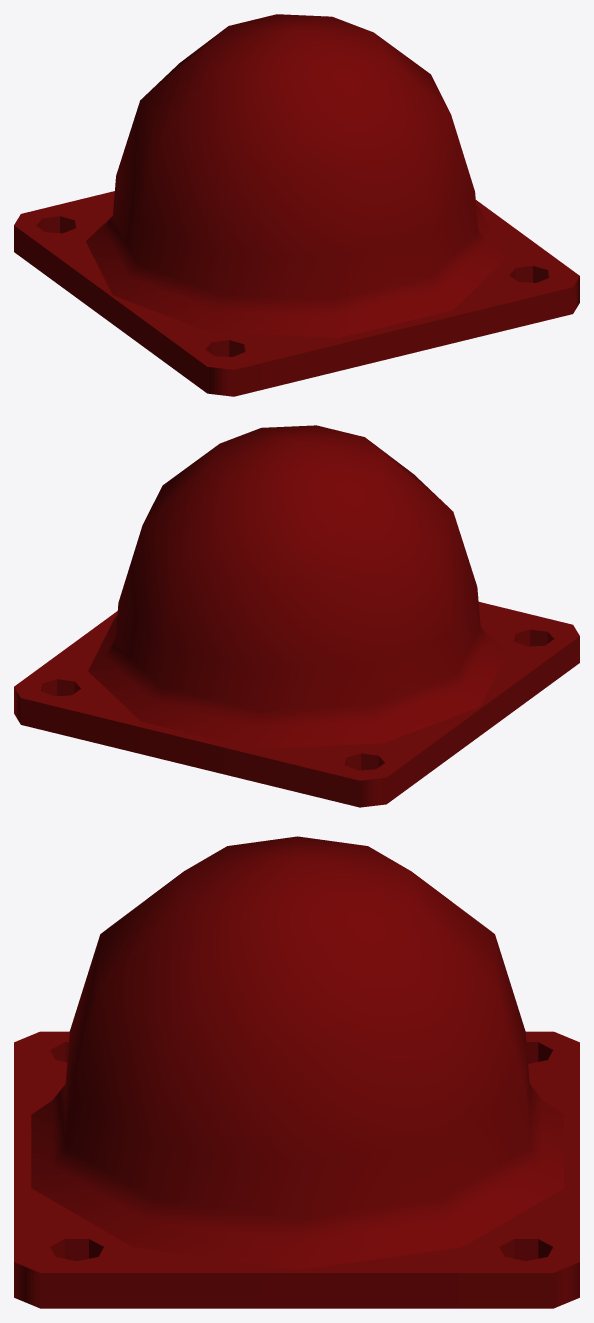
Rendered from New_Floor_Filter_Housing_Cap.fbx.
The picture shows the model from 3 angles, top to bottom: view 1: azimuth 30°, elevation 25°; view 2: azimuth 150°, elevation 25°; view 3: azimuth 270°, elevation 25°; orthographic projection. The views are drawn at different scales.
Visible parts, largest first — view 1: New_Floor_Filter_Housing_cap; view 2: New_Floor_Filter_Housing_cap; view 3: New_Floor_Filter_Housing_cap.
Part boxes in pixels (bbox=[...]): New_Floor_Filter_Housing_cap: bbox=[14, 14, 579, 396]; New_Floor_Filter_Housing_cap: bbox=[14, 425, 579, 807]; New_Floor_Filter_Housing_cap: bbox=[14, 836, 579, 1308].
Bounding box in the file's own units: 0.212 × 0.134 × 0.21.
